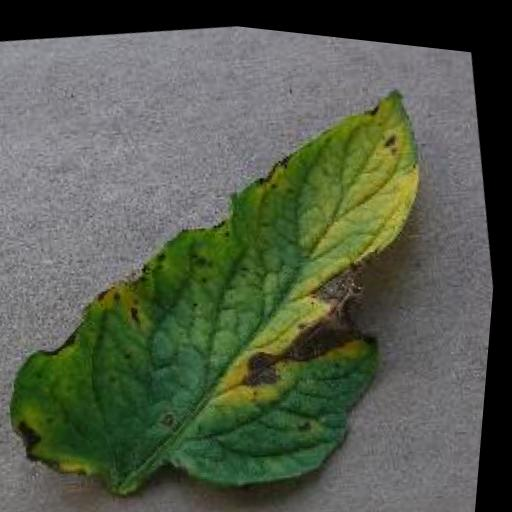Early Blight: (0, 37, 488, 512)
